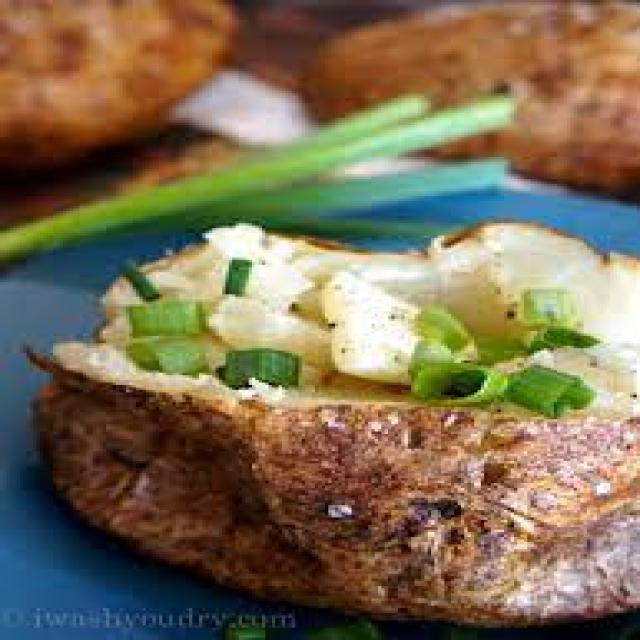Baked Potato: (103, 245, 640, 630)
